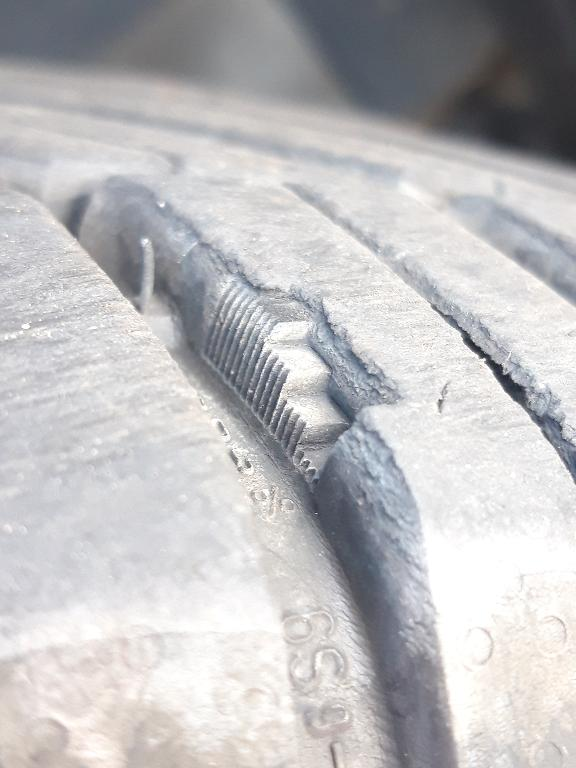temoin:80: (196, 255, 416, 507)
